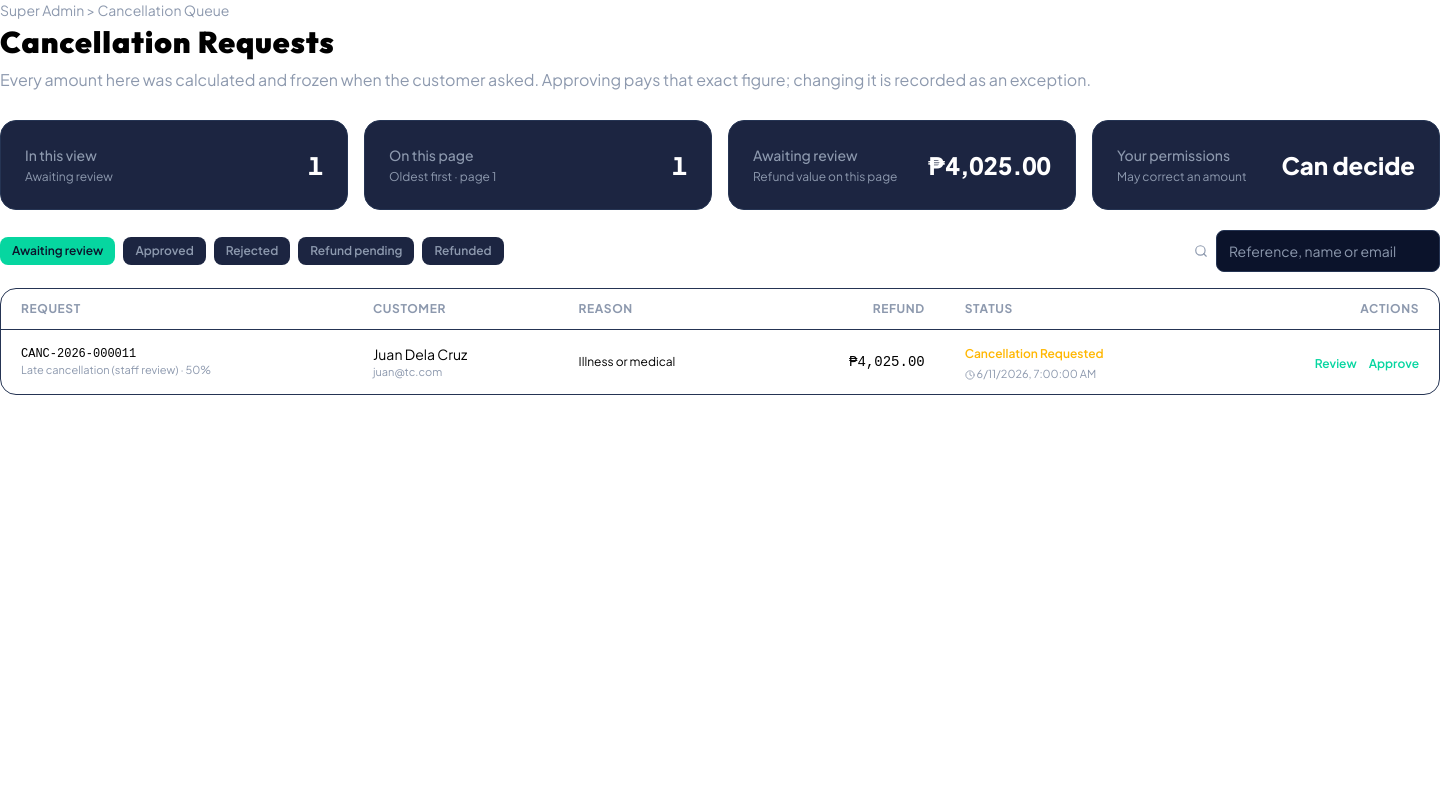
Test: CancellationQueuePage › approves the request without inventing an amount
Click the button "Approve" at (1394, 364), box 1369,356 -> 1419,372
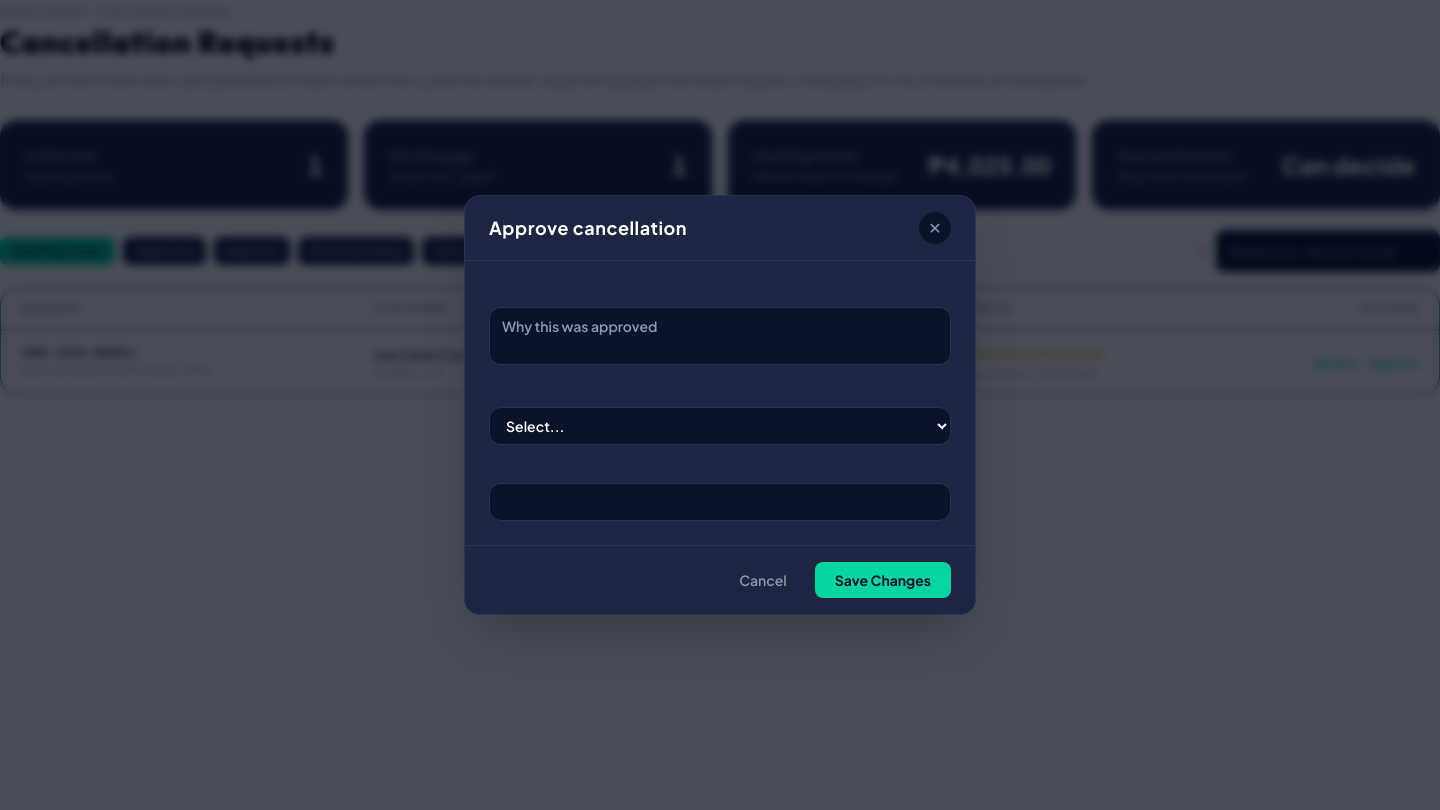
Type "Doctor's letter" into the text box labelled "Internal note" at (720, 336), box 489,307 -> 951,365
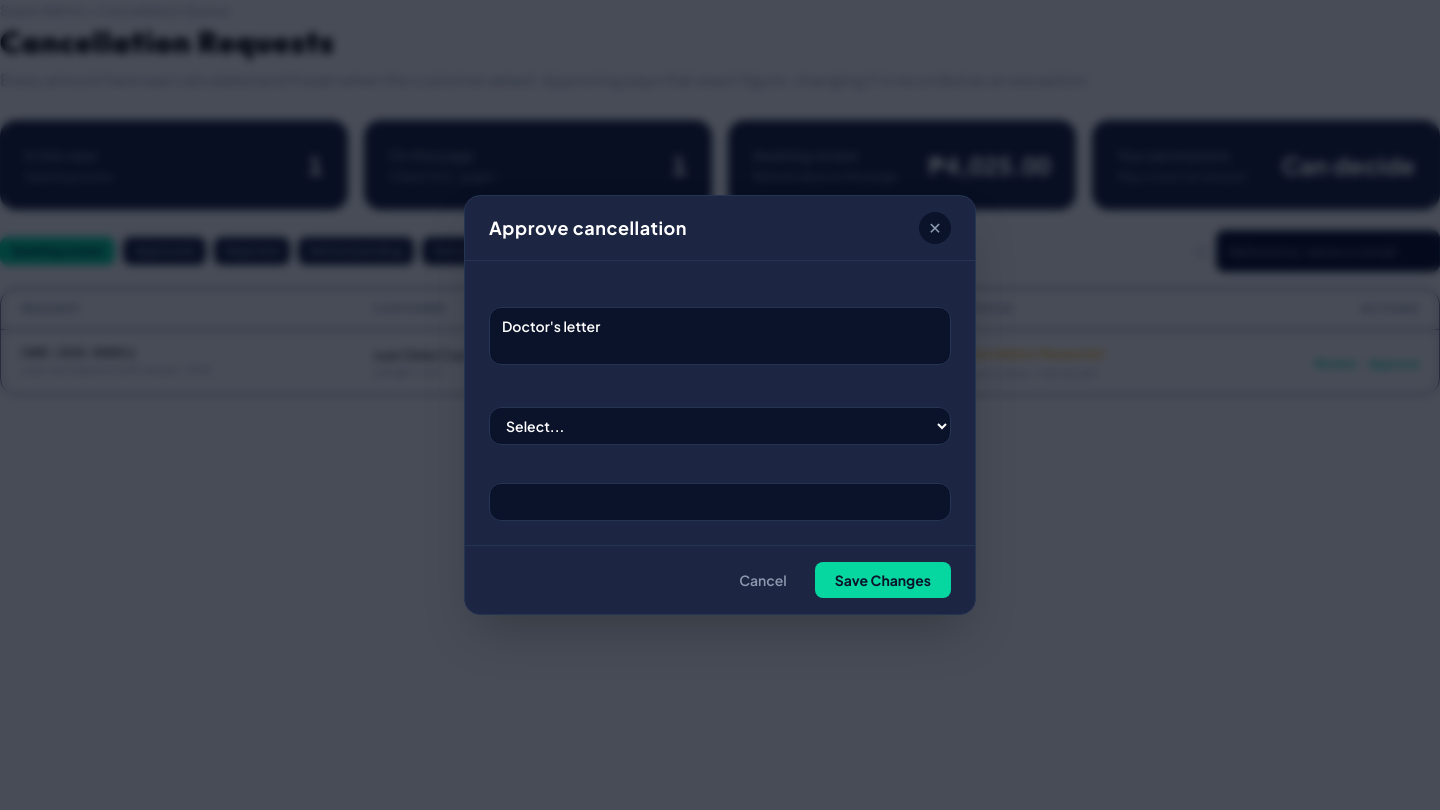
Click the button "Save Changes" at (883, 580), box 815,562 -> 951,598
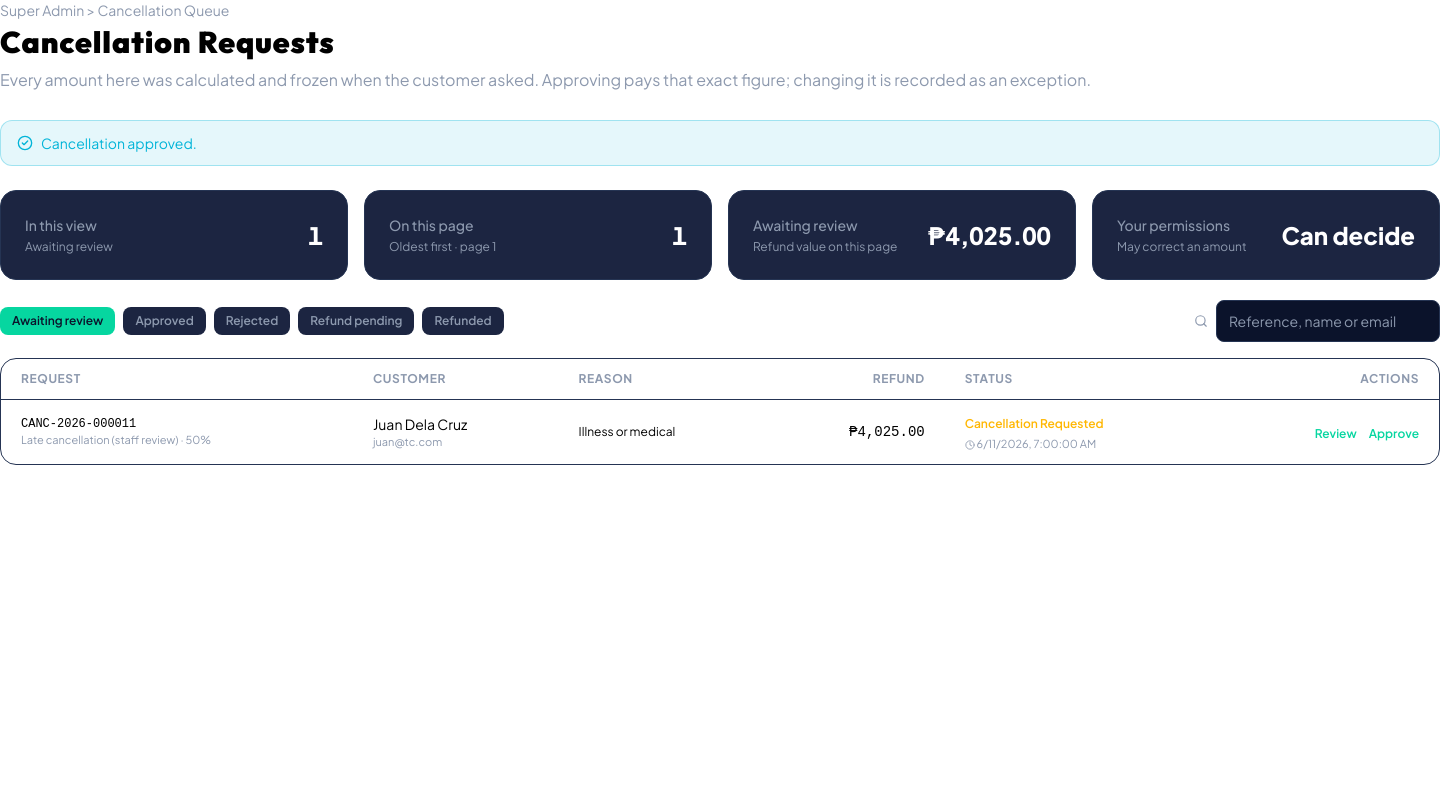
Check: the text "Cancellation approved." is shown, box 0,120 -> 1439,166
